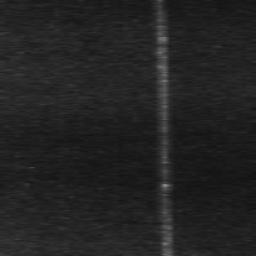Bright scratch: (156, 0, 174, 256)
